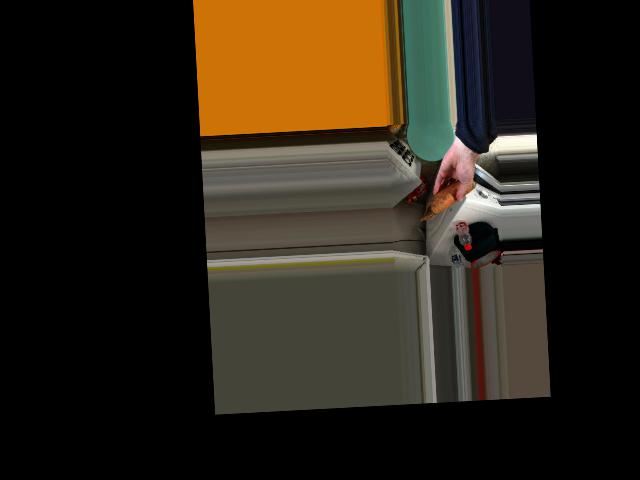sweet_potato: (433, 180, 467, 213)
